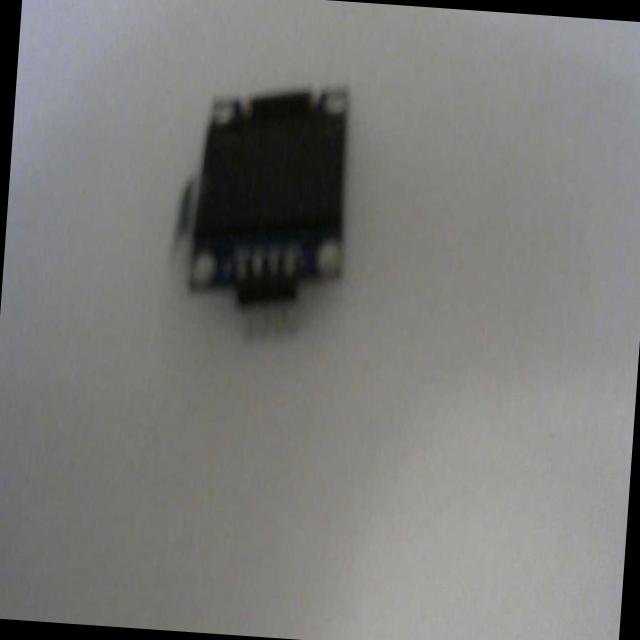oled: (158, 67, 368, 356)
